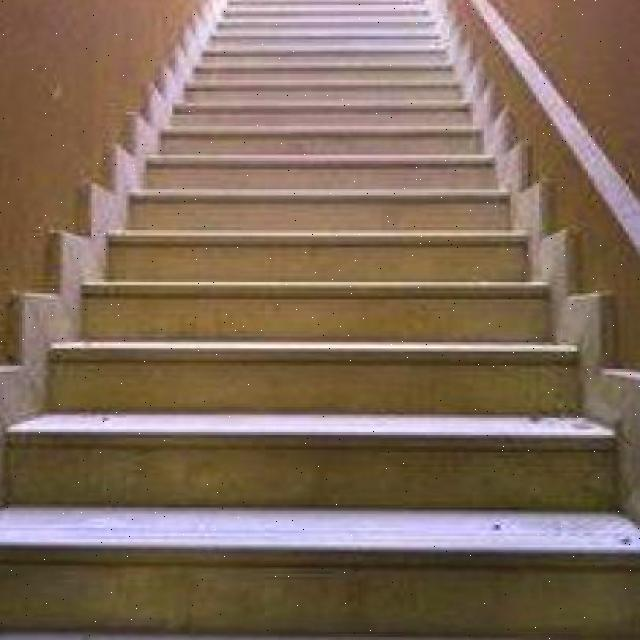stair: (17, 252, 607, 508)
